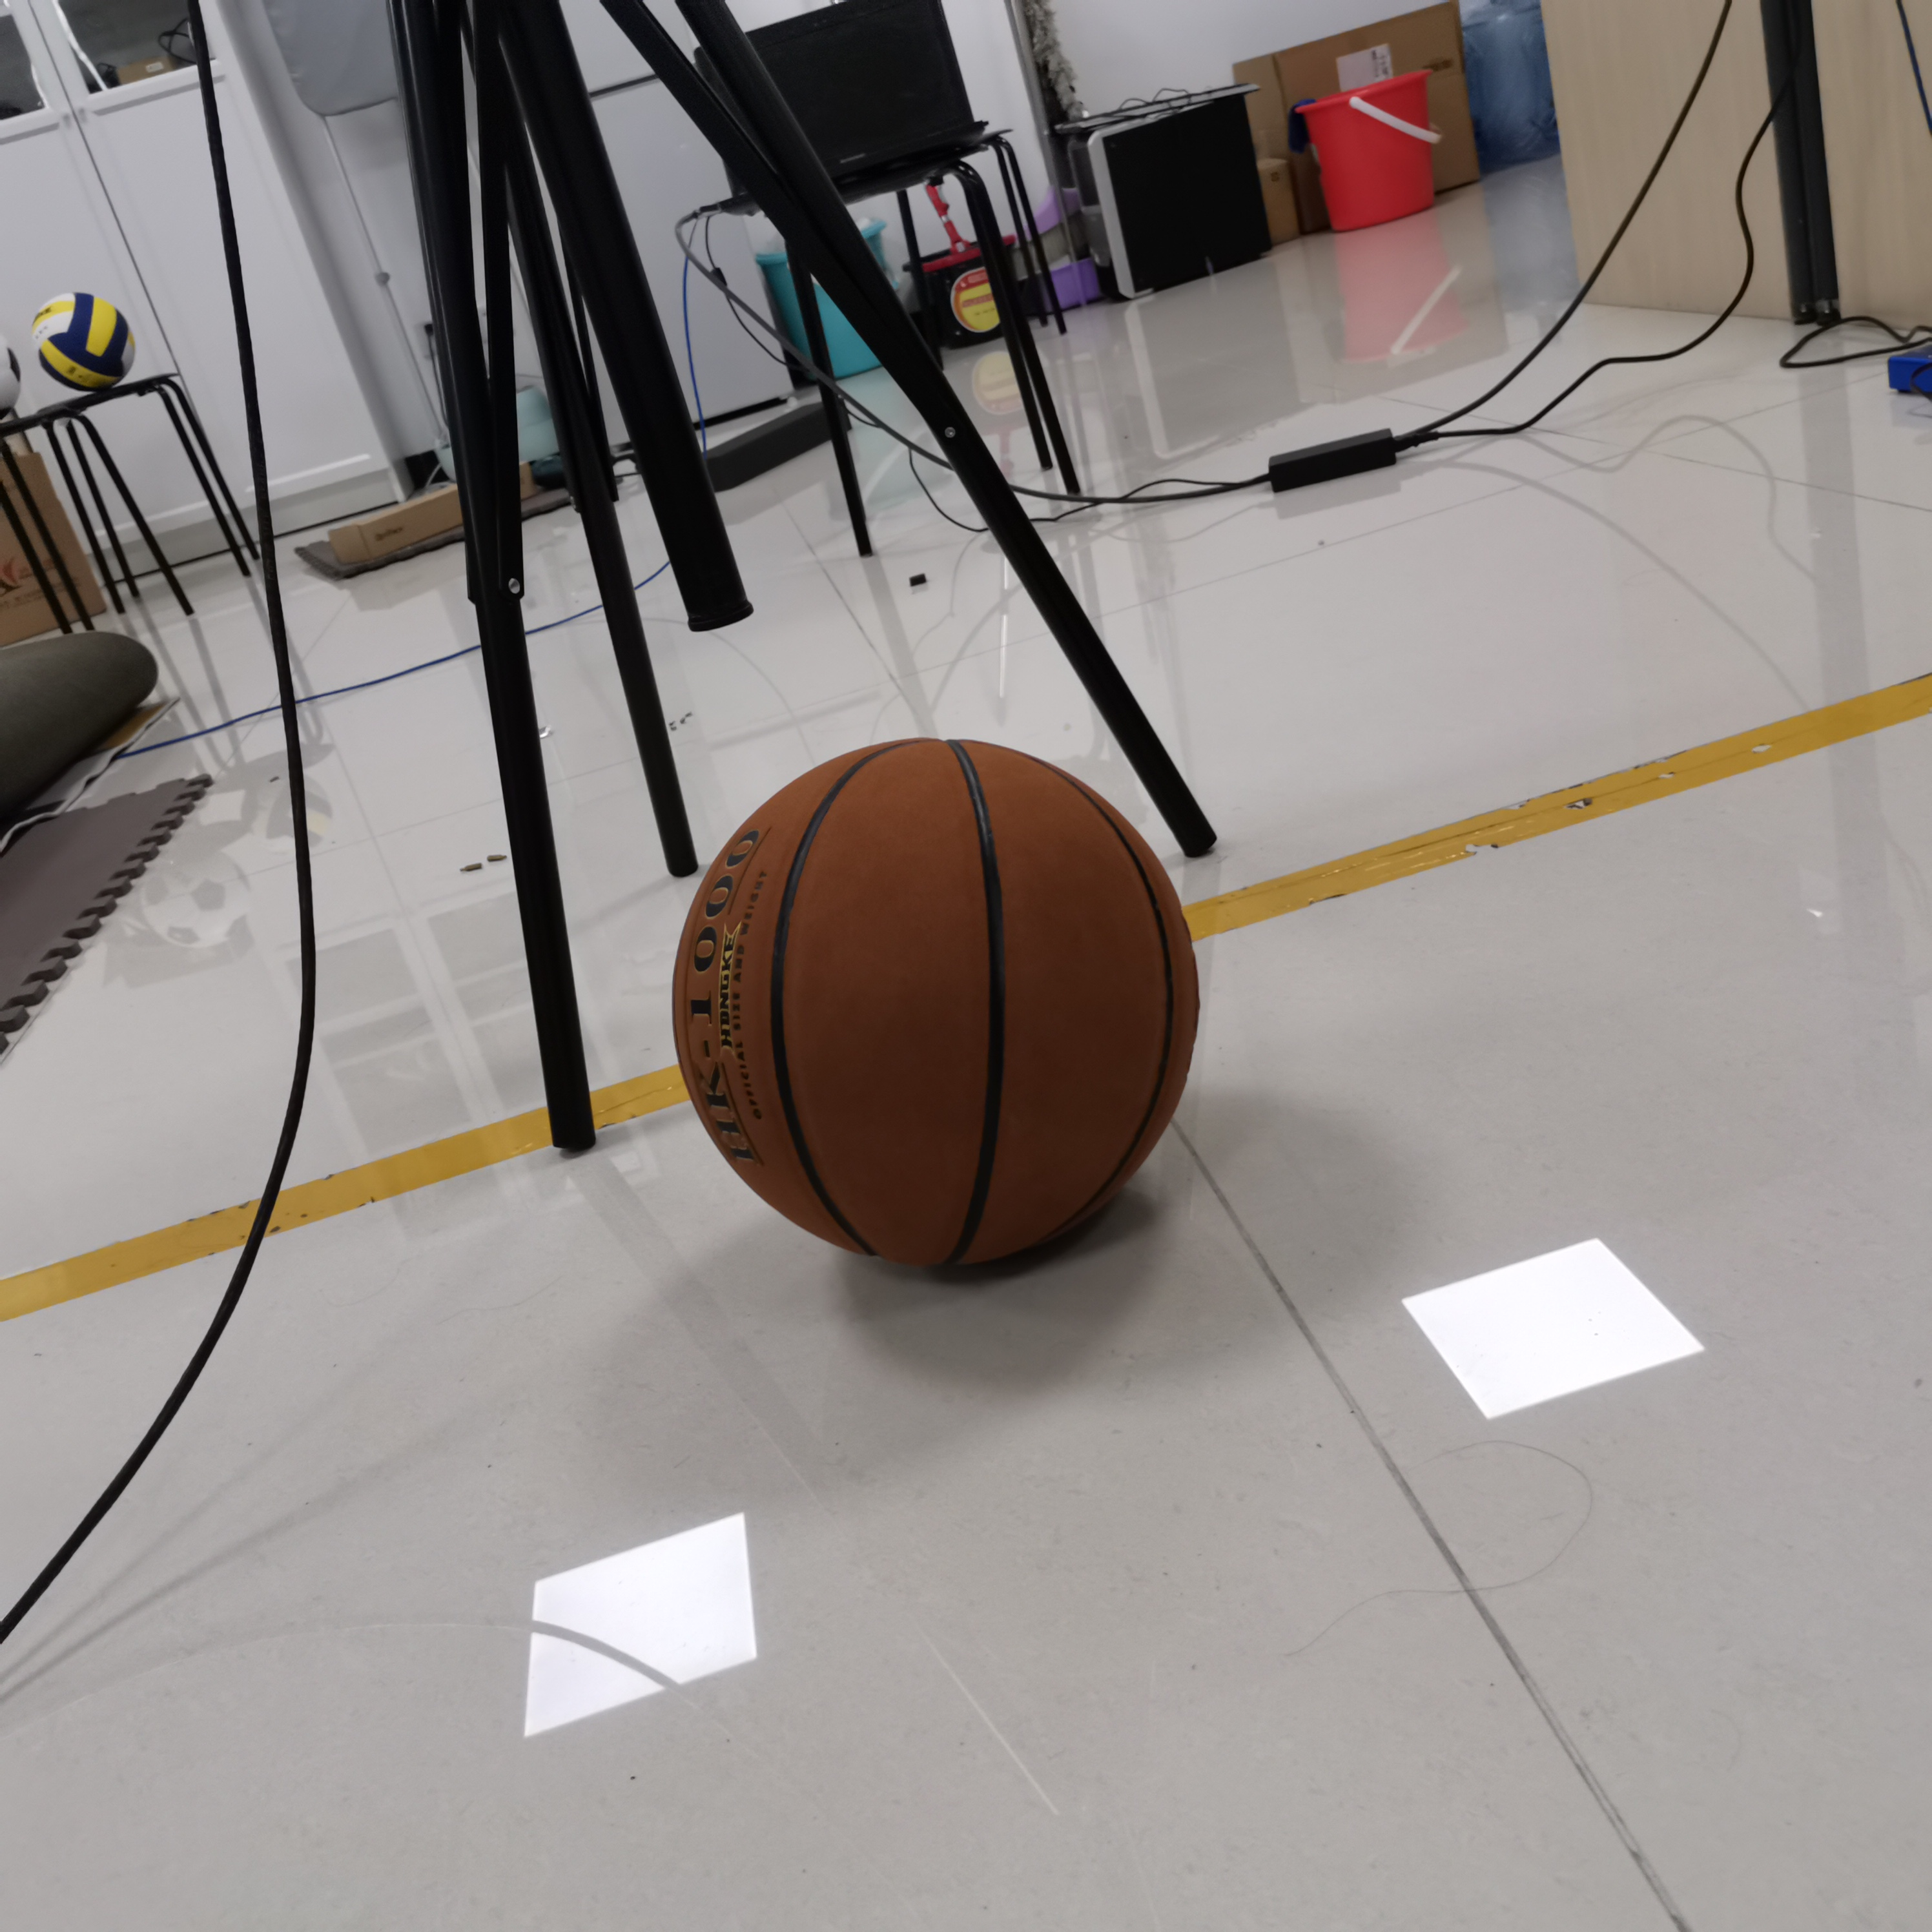basketball: (676, 740, 1200, 1274)
